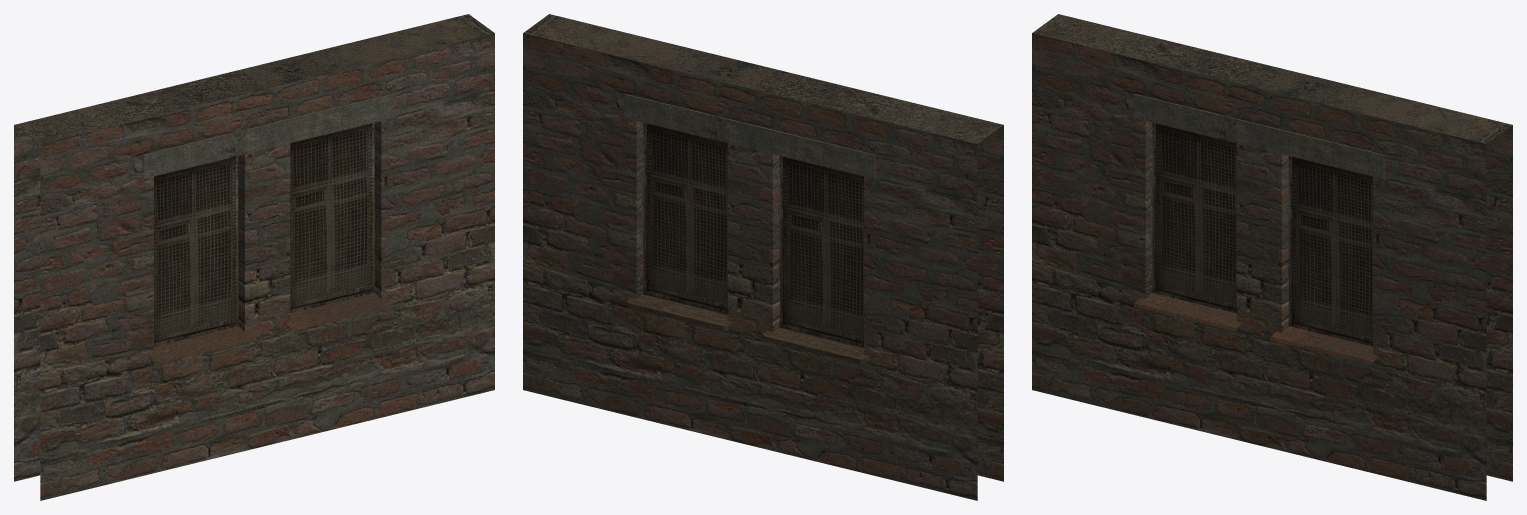
File: windows_hr_2.obj
3 renders of one model, left to right at view 1: azimuth 30°, elevation 25°; view 2: azimuth 150°, elevation 25°; view 3: azimuth 330°, elevation 25°, orthographic.
Visible parts, largest first — view 1: windows_hr_2; view 2: windows_hr_2; view 3: windows_hr_2.
Boxes of the visible parts, bbox=[...] form: windows_hr_2: bbox=[14, 14, 494, 500]; windows_hr_2: bbox=[523, 14, 1003, 500]; windows_hr_2: bbox=[1032, 14, 1512, 500].
Bounding box in the file's own units: 4 × 3 × 0.595.
